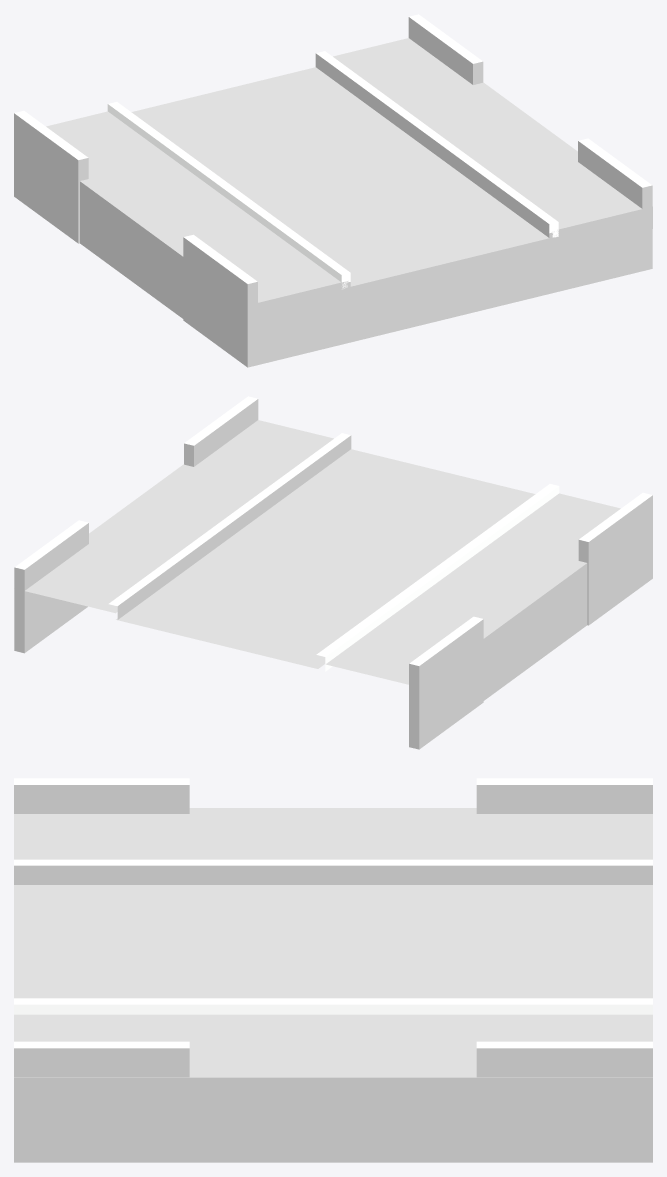
File: port_tile_1x1_7.glb
3 views of the same model, one above another, from view 1: azimuth 30°, elevation 25°; view 2: azimuth 150°, elevation 25°; view 3: azimuth 270°, elevation 25° (orthographic). The views are drawn at different scales.
Visible parts, largest first — view 1: port_tile_1x1_7(Clone); view 2: port_tile_1x1_7(Clone); view 3: port_tile_1x1_7(Clone).
Part boxes in pixels (x1=…): port_tile_1x1_7(Clone): x1=14, y1=14, x2=652, y2=367; port_tile_1x1_7(Clone): x1=14, y1=396, x2=652, y2=749; port_tile_1x1_7(Clone): x1=14, y1=778, x2=652, y2=1162.
Bounding box in the file's own units: 8.01 × 1.58 × 8.
1 material, 1 textured.
